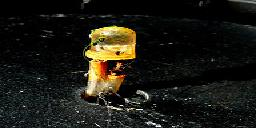LED: (80, 21, 145, 65)
